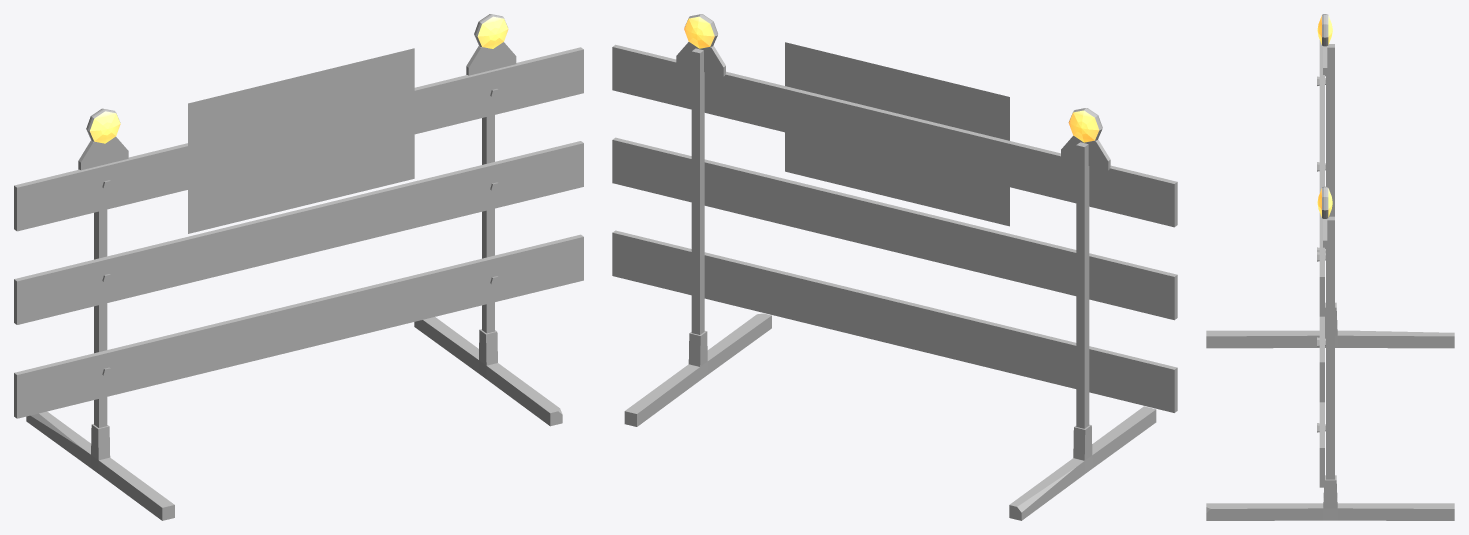
Rendered from SM_Envr_Road_Props_Barrier_03.fbx.
3 views of the same model, side by side, from view 1: azimuth 30°, elevation 25°; view 2: azimuth 150°, elevation 25°; view 3: azimuth 270°, elevation 25° (orthographic). The views are drawn at different scales.
Parts seen in each view (by area): view 1: SM_Envr_Road_Props_Barrier_03; view 2: SM_Envr_Road_Props_Barrier_03; view 3: SM_Envr_Road_Props_Barrier_03.
Boxes of the visible parts, x1=… form: SM_Envr_Road_Props_Barrier_03: x1=14, y1=14, x2=583, y2=520; SM_Envr_Road_Props_Barrier_03: x1=612, y1=14, x2=1177, y2=520; SM_Envr_Road_Props_Barrier_03: x1=1206, y1=14, x2=1454, y2=520.
Size of the model in its own units: 190 by 116 by 78.97.
